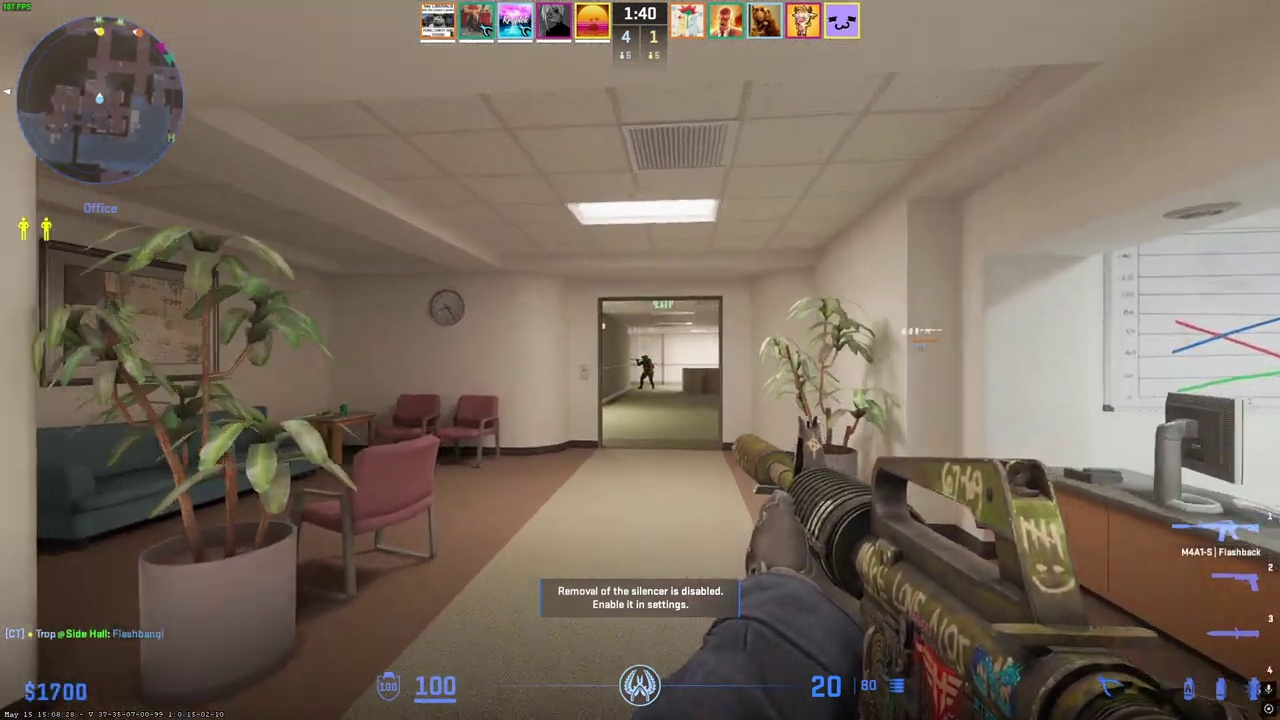CT: (638, 355, 655, 389)
